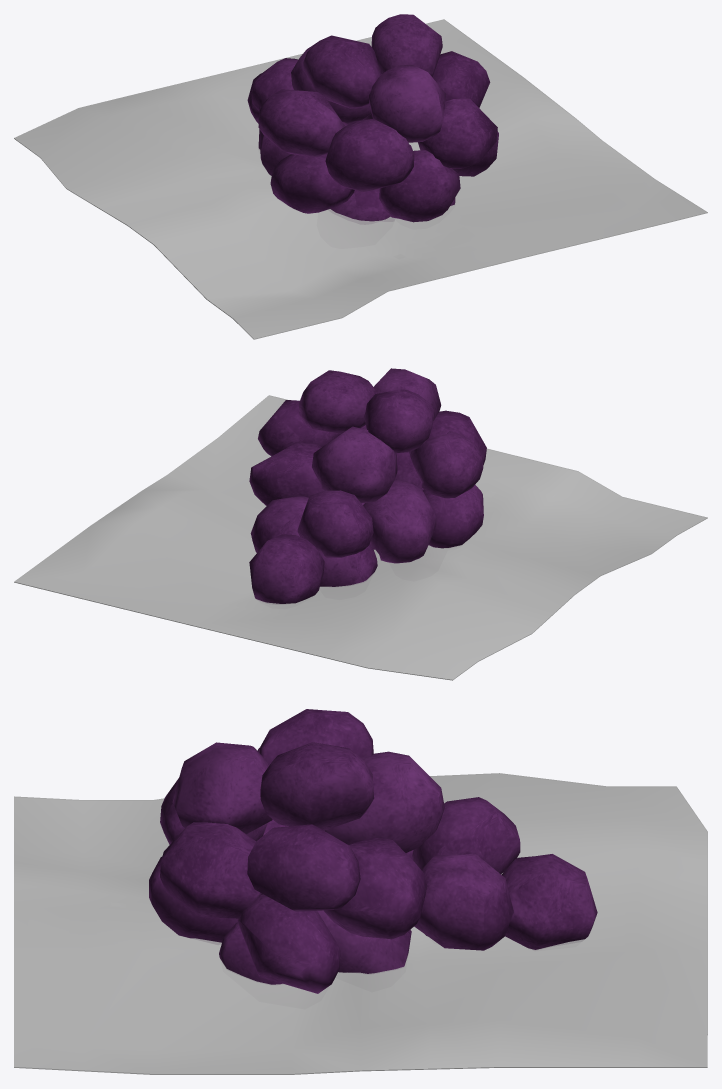
The model's file is grapes.fbx.
3 views of the same model, one above another, from view 1: azimuth 30°, elevation 25°; view 2: azimuth 150°, elevation 25°; view 3: azimuth 270°, elevation 25° (orthographic). The views are drawn at different scales.
Visible parts, largest first — view 1: tissue_oil1, grapes; view 2: tissue_oil1, grapes; view 3: tissue_oil1, grapes.
Part boxes in pixels (x1,y1,x2,y2): tissue_oil1: (14, 19, 707, 339); grapes: (247, 14, 498, 224); tissue_oil1: (14, 395, 707, 680); grapes: (249, 368, 486, 604); tissue_oil1: (14, 773, 707, 1074); grapes: (149, 709, 597, 993).
Bounding box in the file's own units: 38.09 × 16.12 × 38.08.
Materials: 2 (1 with a texture image).
